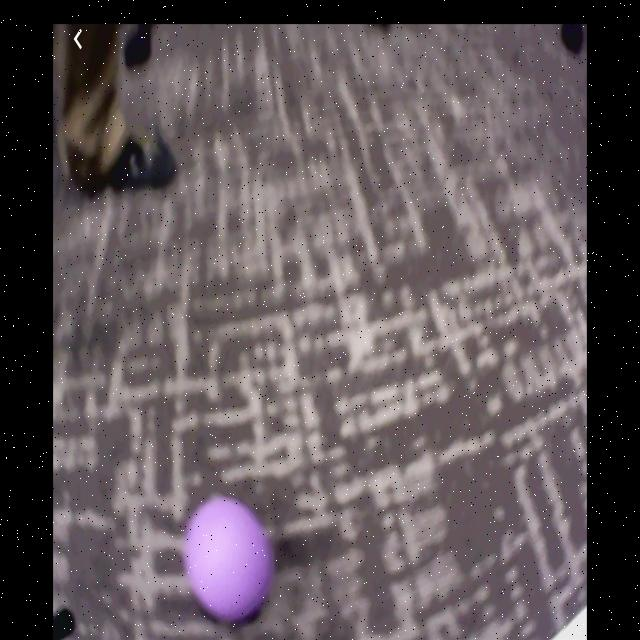ball: (185, 500, 272, 618)
